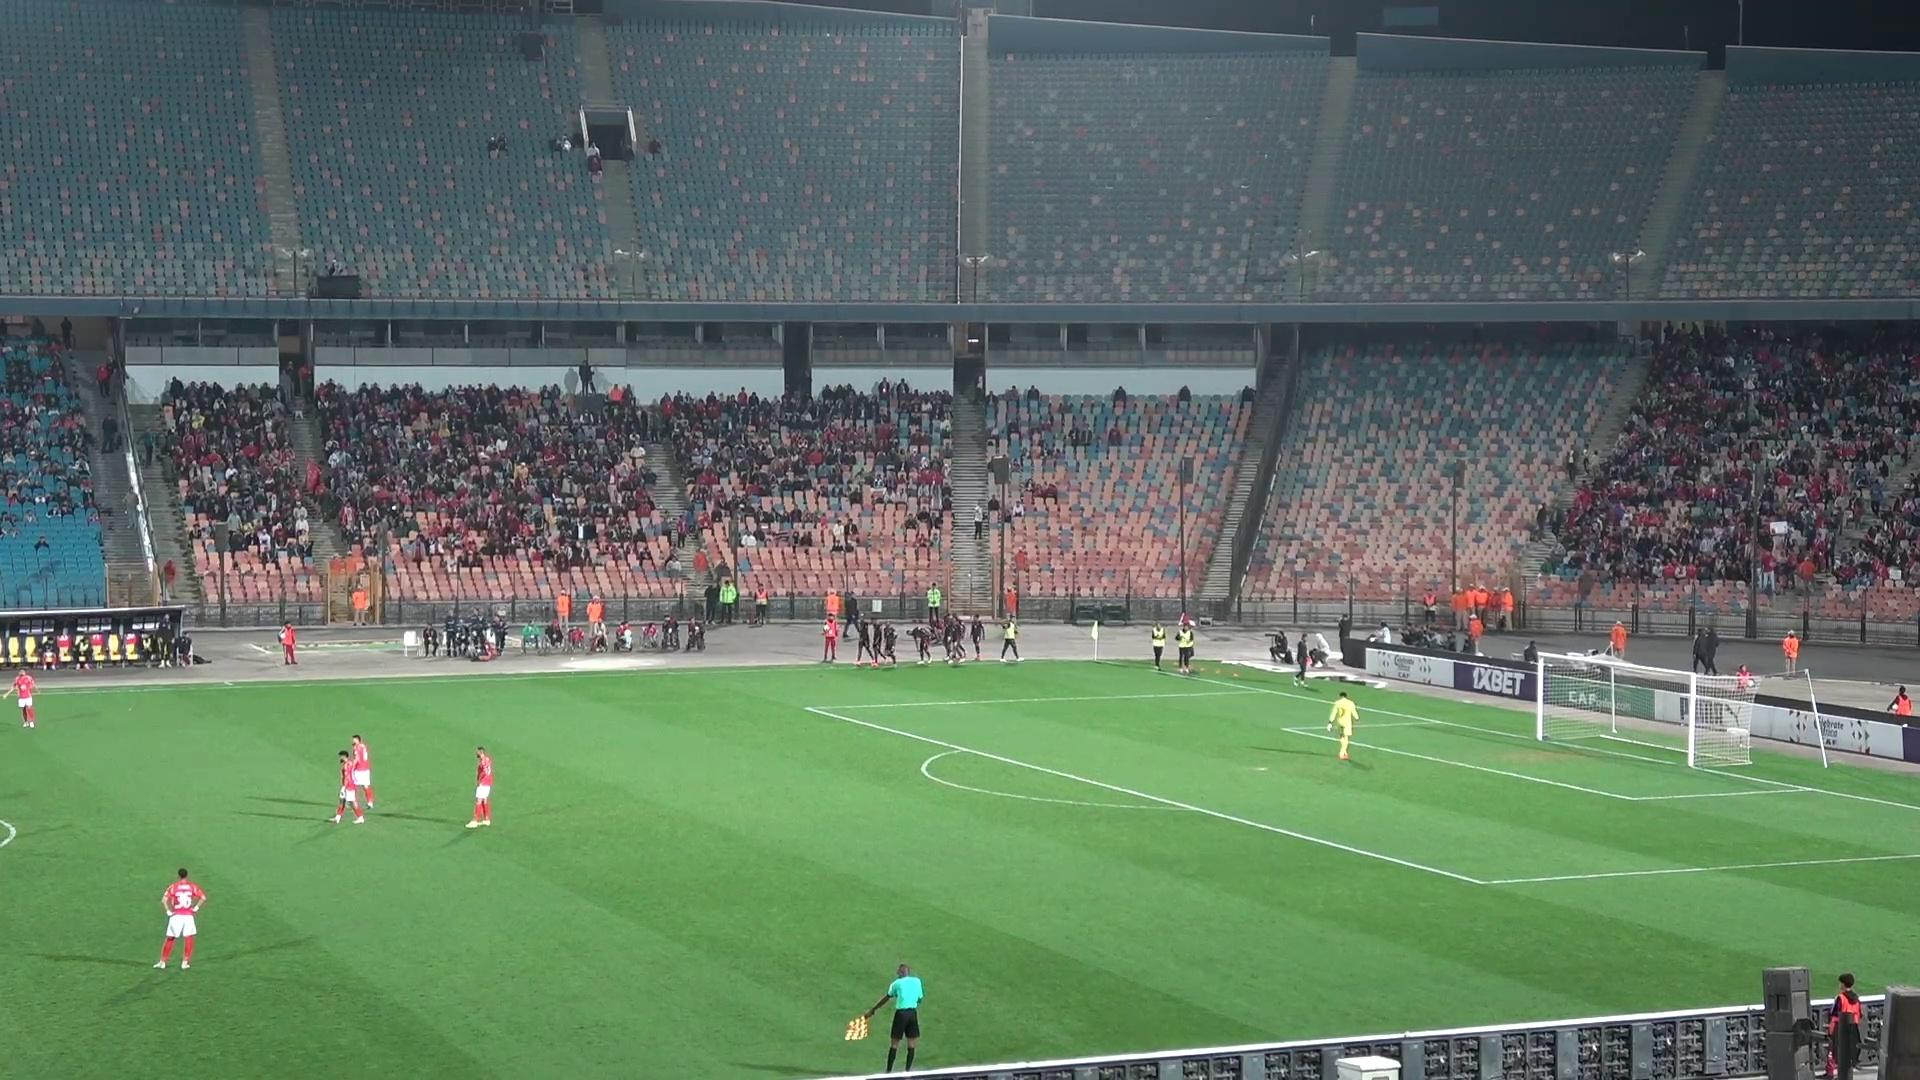GK1: (1327, 690, 1358, 761)
Refree: (845, 963, 920, 1072)
Team1: (154, 868, 206, 968), (342, 735, 375, 822), (327, 749, 361, 823), (467, 746, 495, 828), (7, 670, 36, 728)
